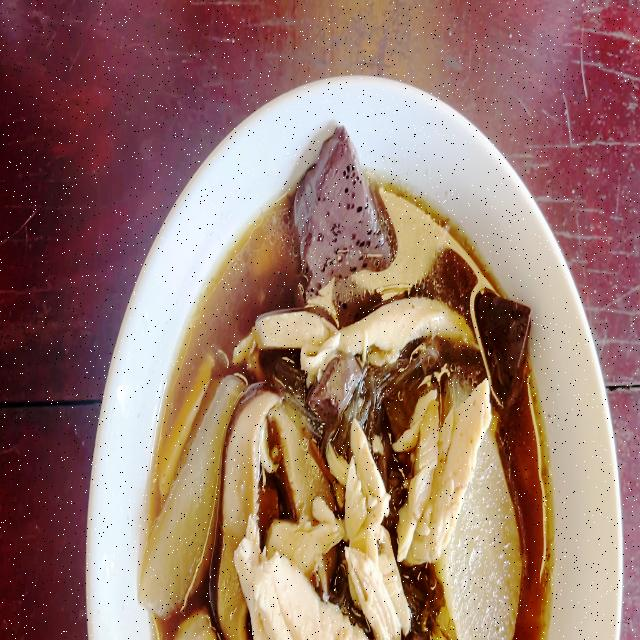boiled_chicken_blood_jelly: (294, 130, 398, 280), (475, 292, 531, 406), (313, 355, 355, 413)
chicken_shredded: (404, 383, 490, 553), (349, 422, 405, 632), (239, 540, 354, 640), (348, 300, 476, 361), (260, 304, 336, 367)
daikon_radish: (144, 372, 228, 607), (461, 466, 526, 640)
noodle: (147, 181, 546, 640)
